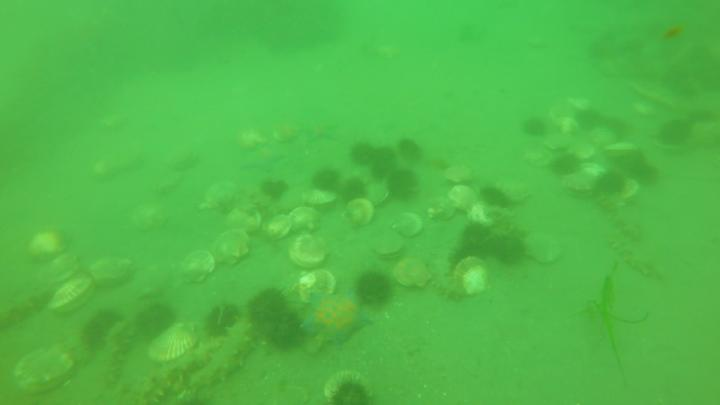echinus: (353, 265, 396, 310), (262, 311, 305, 354), (486, 231, 531, 269), (248, 286, 289, 327), (137, 302, 178, 341), (81, 308, 118, 351), (206, 304, 241, 343), (459, 218, 497, 253), (331, 375, 373, 405), (450, 236, 486, 269), (387, 169, 420, 201), (660, 118, 691, 149), (311, 165, 342, 196), (369, 148, 396, 181), (617, 148, 647, 176), (604, 116, 635, 143), (260, 178, 290, 205), (398, 136, 425, 165), (480, 184, 510, 210), (575, 107, 602, 134), (633, 163, 661, 189), (552, 153, 582, 177), (350, 140, 377, 166), (521, 115, 549, 139), (340, 178, 368, 202), (596, 172, 624, 195), (214, 195, 239, 217)
holothurian: (180, 317, 255, 405), (133, 338, 219, 405), (92, 320, 135, 391), (1, 282, 60, 327), (606, 235, 666, 278), (598, 196, 644, 239), (152, 173, 186, 197)
scallop: (14, 345, 77, 396), (147, 324, 202, 364), (49, 276, 97, 320), (95, 146, 149, 183), (450, 258, 495, 301), (212, 226, 254, 271), (176, 246, 218, 289), (290, 229, 332, 271), (391, 255, 436, 293), (523, 229, 568, 267), (84, 258, 140, 288), (298, 266, 339, 306), (129, 199, 173, 236), (27, 227, 72, 262), (201, 177, 242, 214), (323, 371, 365, 402), (226, 202, 263, 236), (567, 165, 606, 195), (447, 182, 481, 215), (465, 198, 501, 229), (288, 207, 326, 235), (371, 229, 405, 259), (392, 210, 425, 239), (497, 179, 538, 202), (344, 200, 376, 229), (238, 126, 271, 154), (441, 163, 476, 187), (264, 214, 294, 241), (165, 152, 201, 174), (602, 140, 644, 158), (273, 121, 303, 146), (102, 112, 131, 136), (366, 184, 394, 207), (304, 190, 338, 208), (568, 140, 597, 161), (523, 152, 553, 172), (622, 177, 641, 205)
starfish: (298, 291, 378, 346), (238, 151, 289, 173), (301, 118, 339, 145)
waterweeds: (584, 269, 654, 397)
